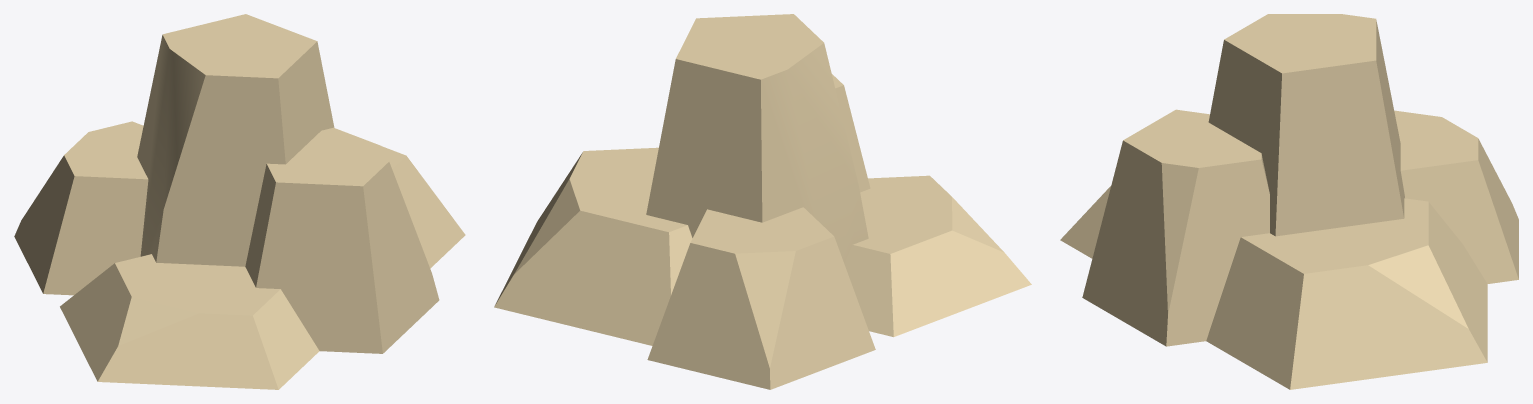
File: rockB.fbx
3 views of the same model, side by side, from view 1: azimuth 30°, elevation 25°; view 2: azimuth 150°, elevation 25°; view 3: azimuth 270°, elevation 25° (orthographic). The views are drawn at different scales.
Parts seen in each view (by area): view 1: rockB; view 2: rockB; view 3: rockB.
Boxes of the visible parts, x1,y1,x2,y2 form: rockB: [14, 14, 465, 389]; rockB: [494, 14, 1031, 389]; rockB: [1060, 14, 1518, 389].
Bounding box in the file's own units: 31.96 × 16.74 × 28.99.
